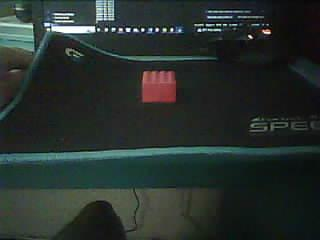lego: (141, 70, 177, 103)
